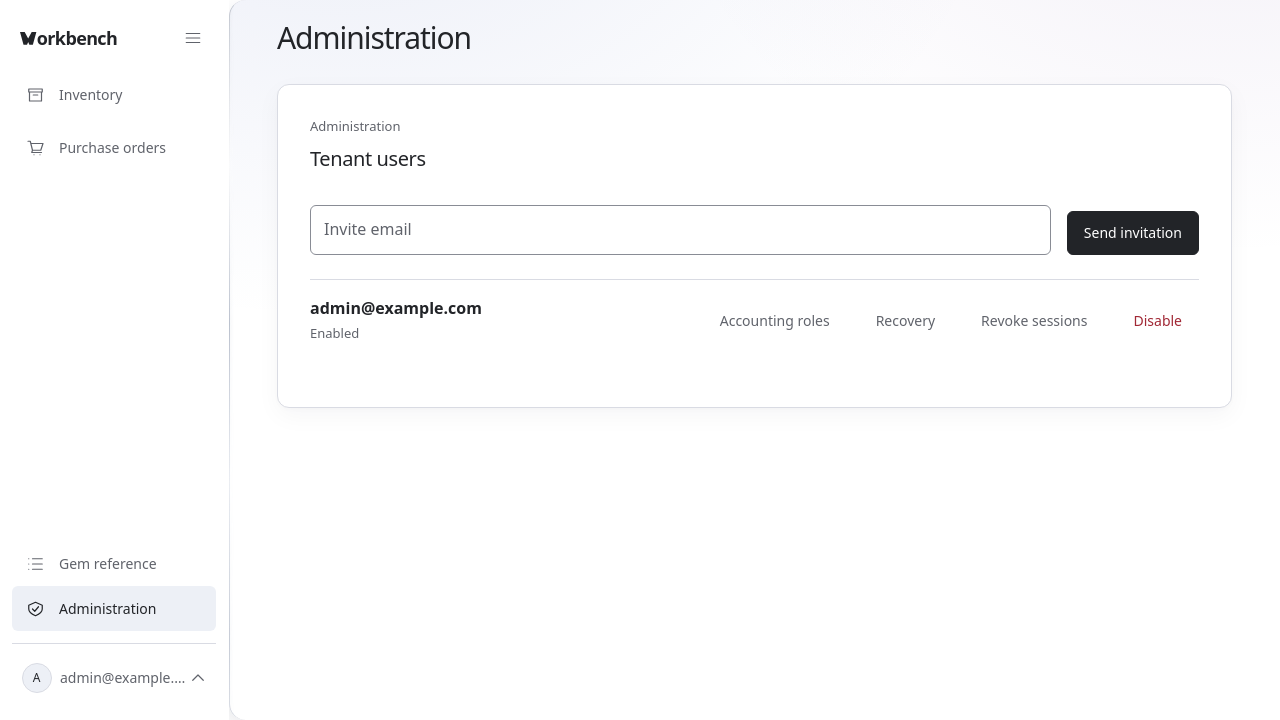
Scenario: keeps role-save feedback while refreshing newly granted accounting navigation
Step 1. Click the button "Accounting roles" → (775, 321), box 703,299 -> 847,343
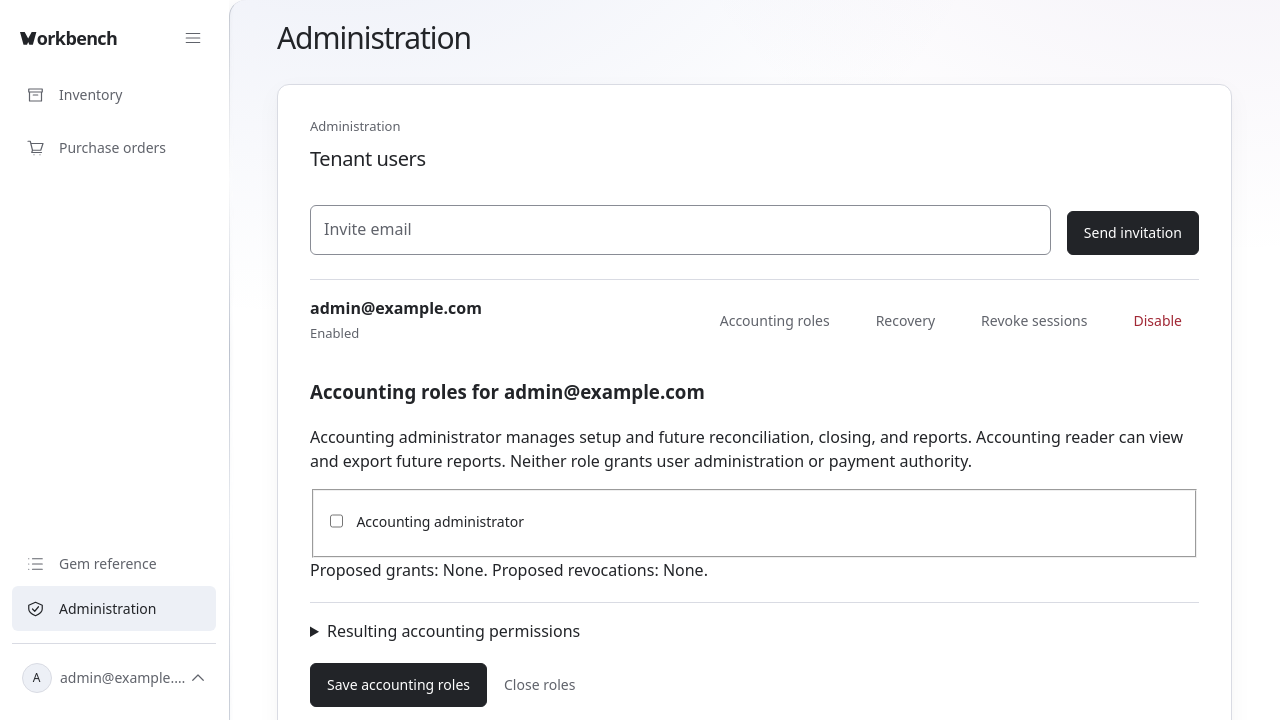
Step 2. Click the checkbox labelled "Accounting administrator" → (336, 521), box 330,499 -> 343,543
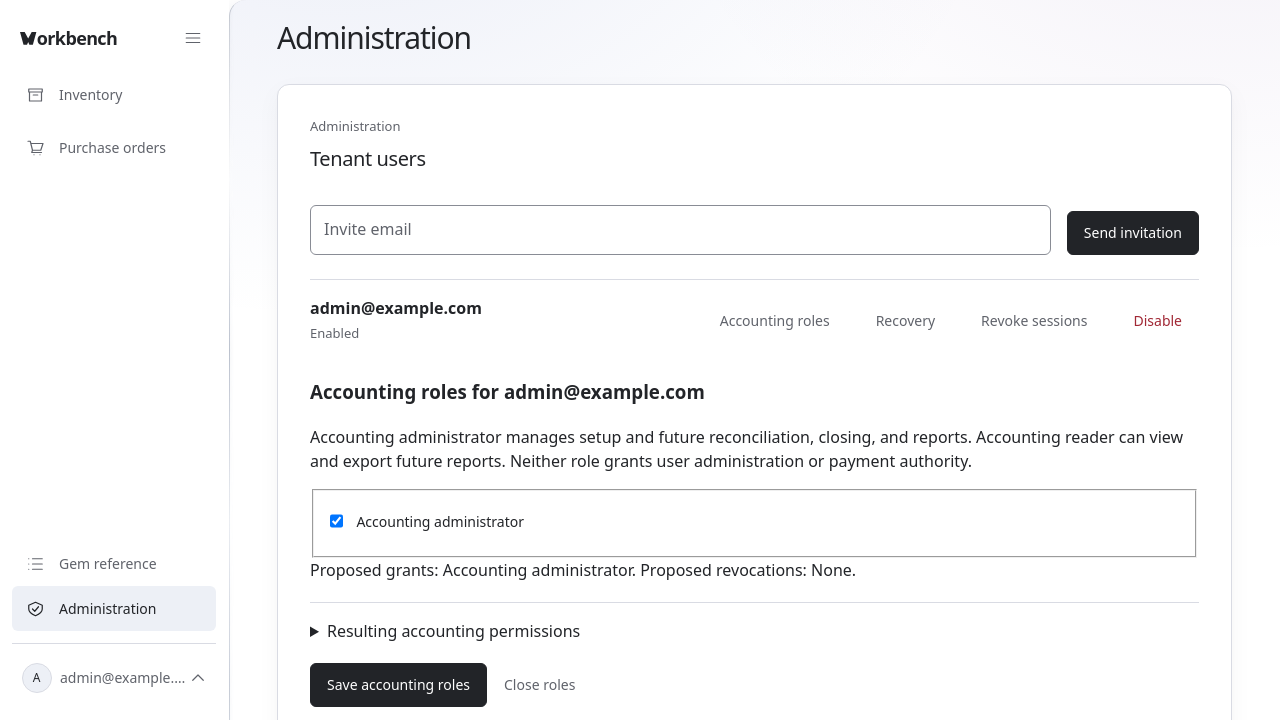
# WHEN the assignment saves THEN refreshed permissions update navigation without discarding the editor
Step 3. Click the button "Save accounting roles" → (398, 685), box 310,663 -> 487,707
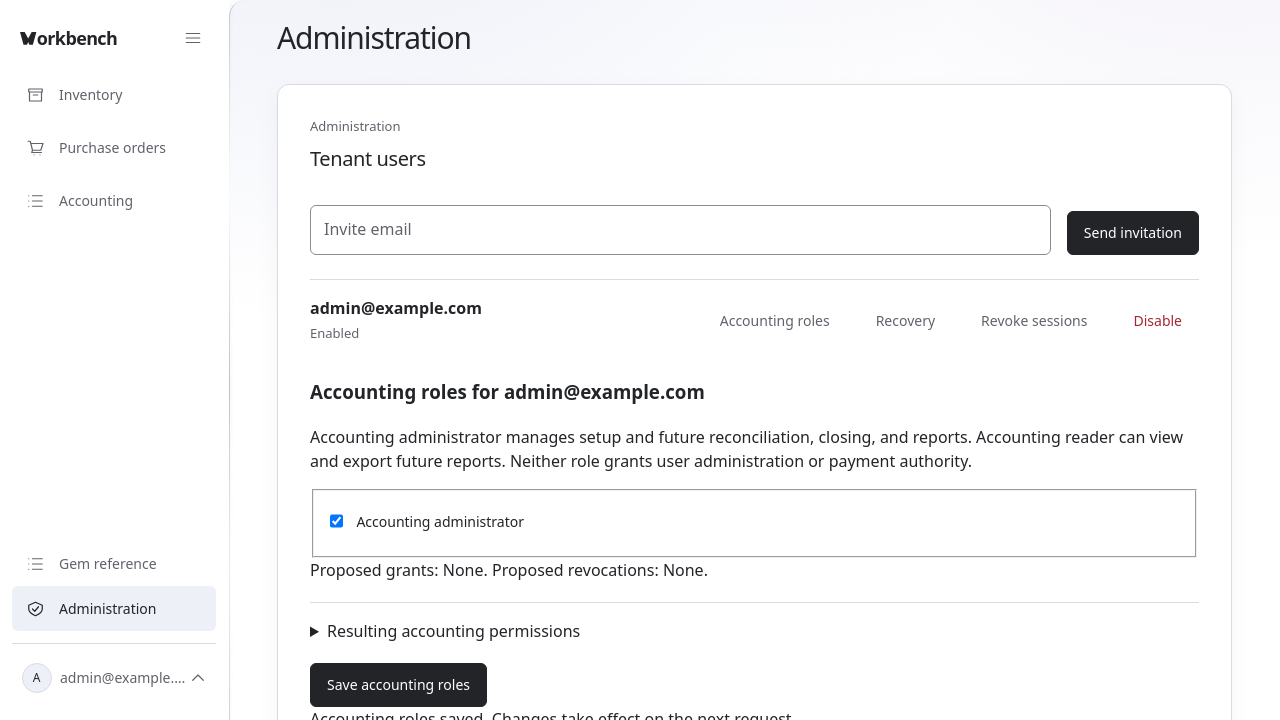
Now the checkbox labelled "Accounting administrator" is checked, box 330,499 -> 343,543
Now the link "Accounting" is shown, box 12,191 -> 133,210
